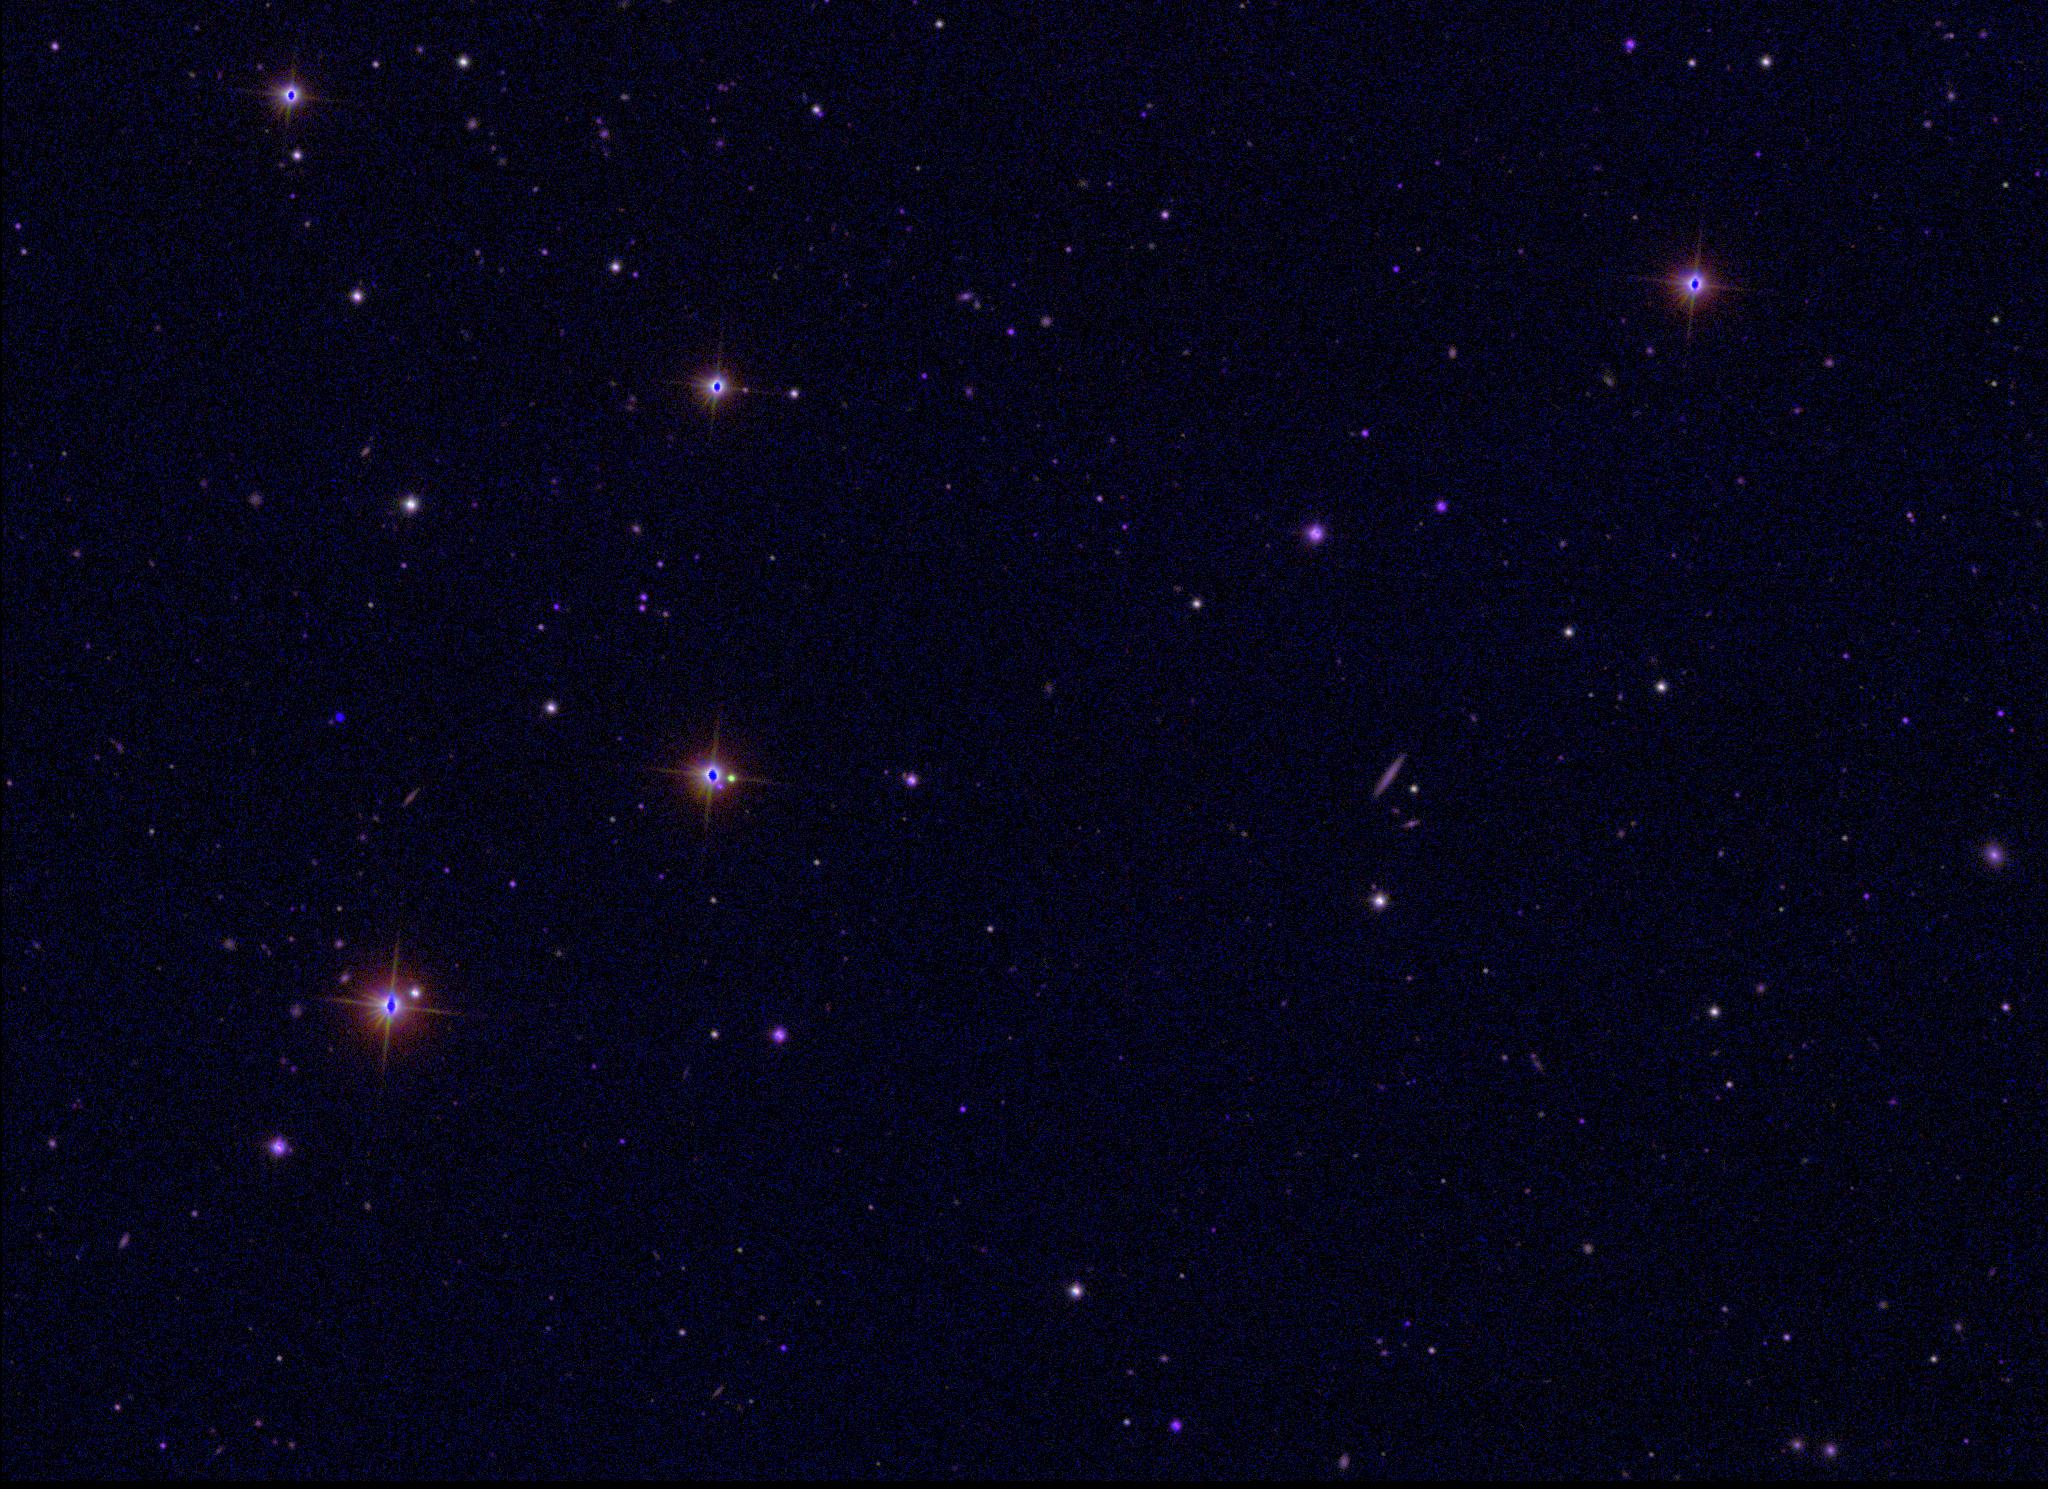L: (331, 711, 345, 725)
